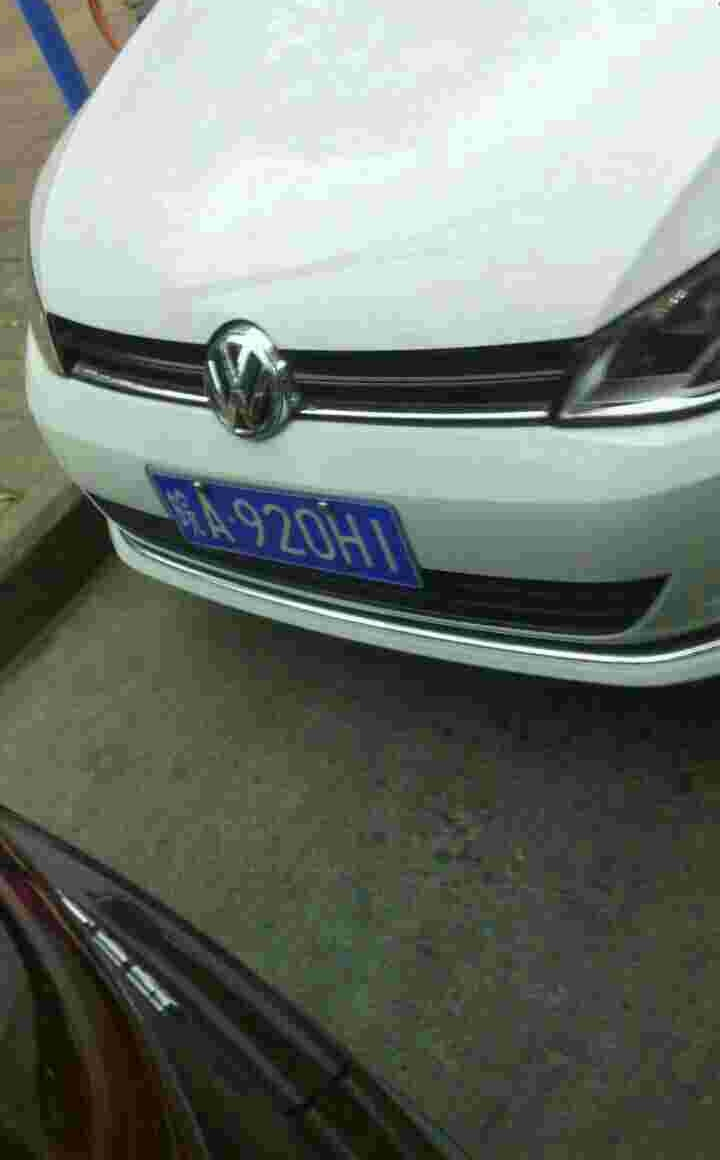license_plate: (153, 483, 407, 570)
